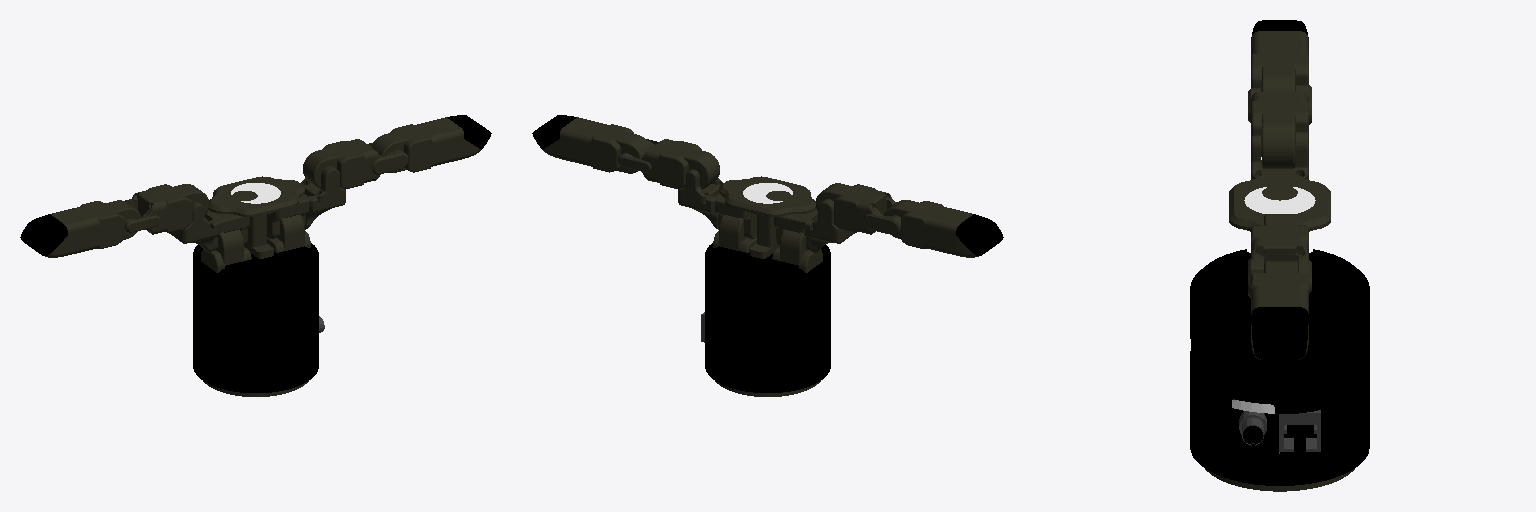
URDF robot description (dg2fm_force_v2):
<?xml version="1.0" encoding="utf-8"?>
<!--
    dg2fm_force_v2.urdf
    Licensed under the BSD-3-Clause
    Copyright (c) 2019-2026 Tesollo Inc.
    See LICENSE file for details.

    Reference:
    * https://www.tesollo.com/products/grippers/dg-2f
-->


<robot name="dg2fm_force_v2">
  <link name="link_mount">
    <inertial>
      <origin xyz="2.1443E-05 -9.2971E-10 0.0050352" rpy="0 0 0" />
      <mass value="0.022" />
      <inertia ixx="4.0976E-06" ixy="1.415E-13" ixz="-1.4802E-09" iyy="4.0904E-06" iyz="2.629E-14" izz="7.6318E-06" />
    </inertial>
    <visual>
      <origin xyz="0 0 0" rpy="0 0 0" />
      <geometry>
        <mesh filename="package://meshes/link_mount.dae" />
      </geometry>
    </visual>
    <collision>
      <origin xyz="0 0 0" rpy="0 0 0" />
      <geometry>
        <mesh filename="package://meshes/link_mount.STL" />
      </geometry>
    </collision>
  </link>

  <link name="link_base">
    <inertial>
      <origin xyz="-0.000387279118995667 3.85821004457669E-05 0.0413973195029413" rpy="0 0 0" />
      <mass value="0.274913324124414" />
      <inertia ixx="0.000123579994158363" ixy="-2.98047590467429E-07" ixz="-4.19579347404301E-07" iyy="0.000124294440150551" iyz="5.30289229088882E-09" izz="0.000167082387563003" />
    </inertial>
    <visual>
      <origin xyz="0 0 0" rpy="0 0 0" />
      <geometry>
        <mesh filename="package://meshes/link_base.dae" />
      </geometry>
    </visual>
    <collision>
      <origin xyz="0 0 0" rpy="0 0 0" />
      <geometry>
        <mesh filename="package://meshes/link_base.STL" />
      </geometry>
    </collision>
  </link>
  <joint name="joint_base" type="fixed">
    <origin xyz="0 0 0.004" rpy="0 0 0" />
    <parent link="link_mount" />
    <child link="link_base" />
  </joint>

  <link name="link_1_1">
    <inertial>
      <origin xyz="0.0132580158717576 -0.000218120950403102 -0.0131408031088283" rpy="0 0 0" />
      <mass value="0.011" />
      <inertia ixx="2.19362568138145E-06" ixy="3.45478819757966E-08" ixz="2.88819044915745E-07" iyy="2.23542868095477E-06" iyz="-2.66715021816441E-08" izz="8.19068644312156E-07" />
    </inertial>
    <visual>
      <origin xyz="0 0 0" rpy="0 0 0" />
      <geometry>
        <mesh filename="package://meshes/link_1.dae" />
      </geometry>
    </visual>
    <collision>
      <origin xyz="0 0 0" rpy="0 0 0" />
      <geometry>
        <mesh filename="package://meshes/link_1.STL" />
      </geometry>
    </collision>
  </link>
  <joint name="joint_1_1" type="revolute">
    <origin xyz="0.01905 0 0.08176" rpy="0 -1.5708 0" />
    <parent link="link_base" />
    <child link="link_1_1" />
    <axis xyz="0 0 -1" />
    <limit lower="-1.5707963267948966" upper="1.5707963267948966" effort="10.0" velocity="7.853981633974483" />
  </joint>

  <link name="link_1_2">
    <inertial>
      <origin xyz="0.0153615784003888 -2.65380591455006E-05 0.00010721551662414" rpy="0 0 0" />
      <mass value="0.014" />
      <inertia ixx="9.94637785301132E-07" ixy="8.45227504885404E-09" ixz="-1.30426301492852E-07" iyy="2.9068734661645E-06" iyz="1.51355367433403E-09" izz="2.66979118413059E-06" />
    </inertial>
    <visual>
      <origin xyz="0 0 0" rpy="0 0 0" />
      <geometry>
        <mesh filename="package://meshes/link_2.dae" />
      </geometry>
    </visual>
    <collision>
      <origin xyz="0 0 0" rpy="0 0 0" />
      <geometry>
        <mesh filename="package://meshes/link_2.STL" />
      </geometry>
    </collision>
  </link>
  <joint name="joint_1_2" type="revolute">
    <origin xyz="0.029 0 -0.0241" rpy="1.5708 1.5708 0" />
    <parent link="link_1_1" />
    <child link="link_1_2" />
    <axis xyz="0 0 1" />
    <limit lower="-0.0" upper="3.1066860685499065" effort="10.0" velocity="7.853981633974483" />
  </joint>
  
  <link name="link_1_3">
    <inertial>
      <origin xyz="0.0138070386779118 -8.92464643853508E-10 -0.00016756154892549" rpy="0 0 0" />
      <mass value="0.014" />
      <inertia ixx="8.97788921752011E-07" ixy="-7.80875003253493E-14" ixz="-3.11260862667934E-08" iyy="2.10082452029784E-06" iyz="-4.51185657289497E-13" izz="2.00412646884277E-06" />
    </inertial>
    <visual>
      <origin xyz="0 0 0" rpy="0 0 0" />
      <geometry>
        <mesh filename="package://meshes/link_3.dae" />
      </geometry>
    </visual>
    <collision>
      <origin xyz="0 0 0" rpy="0 0 0" />
      <geometry>
        <mesh filename="package://meshes/link_3.STL" />
      </geometry>
    </collision>
  </link>
  <joint name="joint_1_3" type="revolute">
    <origin xyz="0.0434 0 0" rpy="0 0 0" />
    <parent link="link_1_2" />
    <child link="link_1_3" />
    <axis xyz="0 0 1" />
    <limit lower="-1.5707963267948966" upper="1.8325957145940461" effort="10.0" velocity="7.853981633974483" />
  </joint>
  
  <link name="link_1_tip">
    <inertial>
      <origin xyz="0.00811374290639798 -0.00153597522703877 3.86327296487071E-08" rpy="0 0 0" />
      <mass value="0.00510044630675642" />
      <inertia ixx="3.48493186601044E-07" ixy="6.17158764494744E-08" ixz="9.0595573662644E-12" iyy="3.64864500936702E-07" iyz="-1.23355886335909E-11" izz="3.04297959452237E-07" />
    </inertial>
    <visual>
      <origin xyz="0 0 0" rpy="0 0 0" />
      <geometry>
        <mesh filename="package://meshes/link_tip.dae" />
      </geometry>
    </visual>
    <collision>
      <origin xyz="0 0 0" rpy="0 0 0" />
      <geometry>
        <mesh filename="package://meshes/link_tip.STL" />
      </geometry>
    </collision>
  </link>
  <joint name="joint_1_tip" type="fixed">
    <origin xyz="0.0313 0 0" rpy="0 0 0" />
    <parent link="link_1_3" />
    <child link="link_1_tip" />
  </joint>

  <link name="link_1_sensor">
    <inertial>
      <origin xyz="-0.00326170276861056 -1.14936723160611E-07 0.00596673223973646" rpy="0 0 0" />
      <mass value="0.003" />
      <inertia ixx="1.63157554313604E-07" ixy="2.68480209283172E-12" ixz="1.10947858005365E-08" iyy="1.48708161092665E-07" iyz="-3.87835144717017E-14" izz="2.42131418010143E-07" />
    </inertial>
    <visual>
      <origin xyz="0 0 0" rpy="0 0 0" />
      <geometry>
        <mesh filename="package://meshes/link_sensor.dae" />
      </geometry>
    </visual>
    <collision>
      <origin xyz="0 0 0" rpy="0 0 0" />
      <geometry>
        <mesh filename="package://meshes/link_sensor.STL" />
      </geometry>
    </collision>
  </link>
  <joint name="joint_1_sensor" type="fixed">
    <origin xyz="0.025417 0.0049551 0" rpy="1.5708 0 -0.69813" />
    <parent link="link_1_tip" />
    <child link="link_1_sensor" />
  </joint>


  <link name="link_2_1">
    <inertial>
      <origin xyz="0.0132580158717576 -0.000218120950403102 -0.0131408031088283" rpy="0 0 0" />
      <mass value="0.011" />
      <inertia ixx="2.19362568138145E-06" ixy="3.45478819757966E-08" ixz="2.88819044915745E-07" iyy="2.23542868095477E-06" iyz="-2.66715021816441E-08" izz="8.19068644312156E-07" />
    </inertial>
    <visual>
      <origin xyz="0 0 0" rpy="0 0 0" />
      <geometry>
        <mesh filename="package://meshes/link_1.dae" />
      </geometry>
    </visual>
    <collision>
      <origin xyz="0 0 0" rpy="0 0 0" />
      <geometry>
        <mesh filename="package://meshes/link_1.STL" />
      </geometry>
    </collision>
  </link>
  <joint name="joint_2_1" type="revolute">
    <origin xyz="-0.01905 0 0.08176" rpy="3.1416 -1.5708 0" />
    <parent link="link_base" />
    <child link="link_2_1" />
    <axis xyz="0 0 -1" />
    <limit lower="-1.5707963267948966" upper="1.5707963267948966" effort="10.0" velocity="7.853981633974483" />
  </joint>

  <link name="link_2_2">
    <inertial>
      <origin xyz="0.0153615784003888 -2.65380591455006E-05 0.00010721551662414" rpy="0 0 0" />
      <mass value="0.014" />
      <inertia ixx="9.94637785301132E-07" ixy="8.45227504885404E-09" ixz="-1.30426301492852E-07" iyy="2.9068734661645E-06" iyz="1.51355367433403E-09" izz="2.66979118413059E-06" />
    </inertial>
    <visual>
      <origin xyz="0 0 0" rpy="0 0 0" />
      <geometry>
        <mesh filename="package://meshes/link_2.dae" />
      </geometry>
    </visual>
    <collision>
      <origin xyz="0 0 0" rpy="0 0 0" />
      <geometry>
        <mesh filename="package://meshes/link_2.STL" />
      </geometry>
    </collision>
  </link>
  <joint name="joint_2_2" type="revolute">
    <origin xyz="0.029 0 -0.0241" rpy="1.5708 1.5708 0" />
    <parent link="link_2_1" />
    <child link="link_2_2" />
    <axis xyz="0 0 1" />
    <limit lower="-0.0" upper="3.1066860685499065" effort="10.0" velocity="7.853981633974483" />
  </joint>
  
  <link name="link_2_3">
    <inertial>
      <origin xyz="0.0138070386779118 -8.92464643853508E-10 -0.00016756154892549" rpy="0 0 0" />
      <mass value="0.014" />
      <inertia ixx="8.97788921752011E-07" ixy="-7.80875003253493E-14" ixz="-3.11260862667934E-08" iyy="2.10082452029784E-06" iyz="-4.51185657289497E-13" izz="2.00412646884277E-06" />
    </inertial>
    <visual>
      <origin xyz="0 0 0" rpy="0 0 0" />
      <geometry>
        <mesh filename="package://meshes/link_3.dae" />
      </geometry>
    </visual>
    <collision>
      <origin xyz="0 0 0" rpy="0 0 0" />
      <geometry>
        <mesh filename="package://meshes/link_3.STL" />
      </geometry>
    </collision>
  </link>
  <joint name="joint_2_3" type="revolute">
    <origin xyz="0.0434 0 0" rpy="0 0 0" />
    <parent link="link_2_2" />
    <child link="link_2_3" />
    <axis xyz="0 0 1" />
    <limit lower="-1.5707963267948966" upper="1.8325957145940461" effort="10.0" velocity="7.853981633974483" />
  </joint>
  
  <link name="link_2_tip">
    <inertial>
      <origin xyz="0.00811374290639798 -0.00153597522703877 3.86327296487071E-08" rpy="0 0 0" />
      <mass value="0.00510044630675642" />
      <inertia ixx="3.48493186601044E-07" ixy="6.17158764494744E-08" ixz="9.0595573662644E-12" iyy="3.64864500936702E-07" iyz="-1.23355886335909E-11" izz="3.04297959452237E-07" />
    </inertial>
    <visual>
      <origin xyz="0 0 0" rpy="0 0 0" />
      <geometry>
        <mesh filename="package://meshes/link_tip.dae" />
      </geometry>
    </visual>
    <collision>
      <origin xyz="0 0 0" rpy="0 0 0" />
      <geometry>
        <mesh filename="package://meshes/link_tip.STL" />
      </geometry>
    </collision>
  </link>
  <joint name="joint_2_tip" type="fixed">
    <origin xyz="0.0313 0 0" rpy="0 0 0" />
    <parent link="link_2_3" />
    <child link="link_2_tip" />
  </joint>

  <link name="link_2_sensor">
    <inertial>
      <origin xyz="-0.00326170276861056 -1.14936723160611E-07 0.00596673223973646" rpy="0 0 0" />
      <mass value="0.003" />
      <inertia ixx="1.63157554313604E-07" ixy="2.68480209283172E-12" ixz="1.10947858005365E-08" iyy="1.48708161092665E-07" iyz="-3.87835144717017E-14" izz="2.42131418010143E-07" />
    </inertial>
    <visual>
      <origin xyz="0 0 0" rpy="0 0 0" />
      <geometry>
        <mesh filename="package://meshes/link_sensor.dae" />
      </geometry>
    </visual>
    <collision>
      <origin xyz="0 0 0" rpy="0 0 0" />
      <geometry>
        <mesh filename="package://meshes/link_sensor.STL" />
      </geometry>
    </collision>
  </link>
  <joint name="joint_2_sensor" type="fixed">
    <origin xyz="0.025417 0.0049551 0" rpy="1.5708 0 -0.69813" />
    <parent link="link_2_tip" />
    <child link="link_2_sensor" />
  </joint>
</robot>

--- What the picture shows (computed from the rendered views, not written in the file) ---
Views: 3 orthographic renders of the robot side by side, from view 1: azimuth 30°, elevation 25°; view 2: azimuth 150°, elevation 25°; view 3: azimuth 270°, elevation 25°.
Model dg2fm_force_v2 with 12 links and 11 joints (6 revolute, 5 fixed), rooted at link_mount, posed all joints at 0.
Visible links, largest first — view 1: link_base, link_1_2, link_2_2, link_1_3, link_2_3, link_1_1, link_2_1, link_2_sensor, link_2_tip, link_1_tip, link_1_sensor; view 2: link_base, link_1_2, link_2_2, link_1_3, link_2_3, link_1_1, link_2_1, link_2_sensor, link_2_tip, link_1_tip, link_1_sensor; view 3: link_base, link_2_2, link_1_2, link_1_sensor, link_2_3, link_1_3, link_2_1, link_mount, link_1_tip, link_2_tip, link_2_sensor.
Boxes of the visible links, x1,y1,x2,y2 form: link_base: [193, 176, 324, 392]; link_1_2: [303, 139, 408, 188]; link_2_2: [125, 184, 208, 234]; link_1_3: [372, 121, 449, 172]; link_2_3: [64, 200, 140, 251]; link_1_1: [267, 166, 345, 238]; link_2_1: [169, 202, 249, 252]; link_2_sensor: [20, 214, 67, 255]; link_2_tip: [45, 211, 82, 257]; link_1_tip: [433, 117, 480, 161]; link_1_sensor: [447, 115, 491, 149]; link_base: [701, 176, 830, 392]; link_1_2: [618, 139, 719, 189]; link_2_2: [816, 183, 900, 234]; link_1_3: [574, 121, 651, 173]; link_2_3: [884, 200, 959, 251]; link_1_1: [678, 169, 756, 238]; link_2_1: [774, 199, 854, 252]; link_2_sensor: [956, 214, 1003, 255]; link_2_tip: [941, 211, 978, 257]; link_1_tip: [543, 117, 590, 161]; link_1_sensor: [532, 115, 576, 149]; link_base: [1190, 170, 1369, 485]; link_2_2: [1248, 85, 1311, 168]; link_1_2: [1248, 214, 1311, 297]; link_1_sensor: [1251, 307, 1308, 359]; link_2_3: [1251, 41, 1308, 91]; link_1_3: [1251, 261, 1308, 302]; link_2_1: [1251, 132, 1308, 179]; link_mount: [1205, 469, 1354, 491]; link_1_tip: [1251, 297, 1308, 359]; link_2_tip: [1251, 31, 1308, 47]; link_2_sensor: [1251, 20, 1308, 37].
Size in the robot's own frame: 0.2961 by 0.07 by 0.1243 metres.
Meshes: 7 distinct files referenced, 12 mesh visuals loaded (7 Collada DAE).
